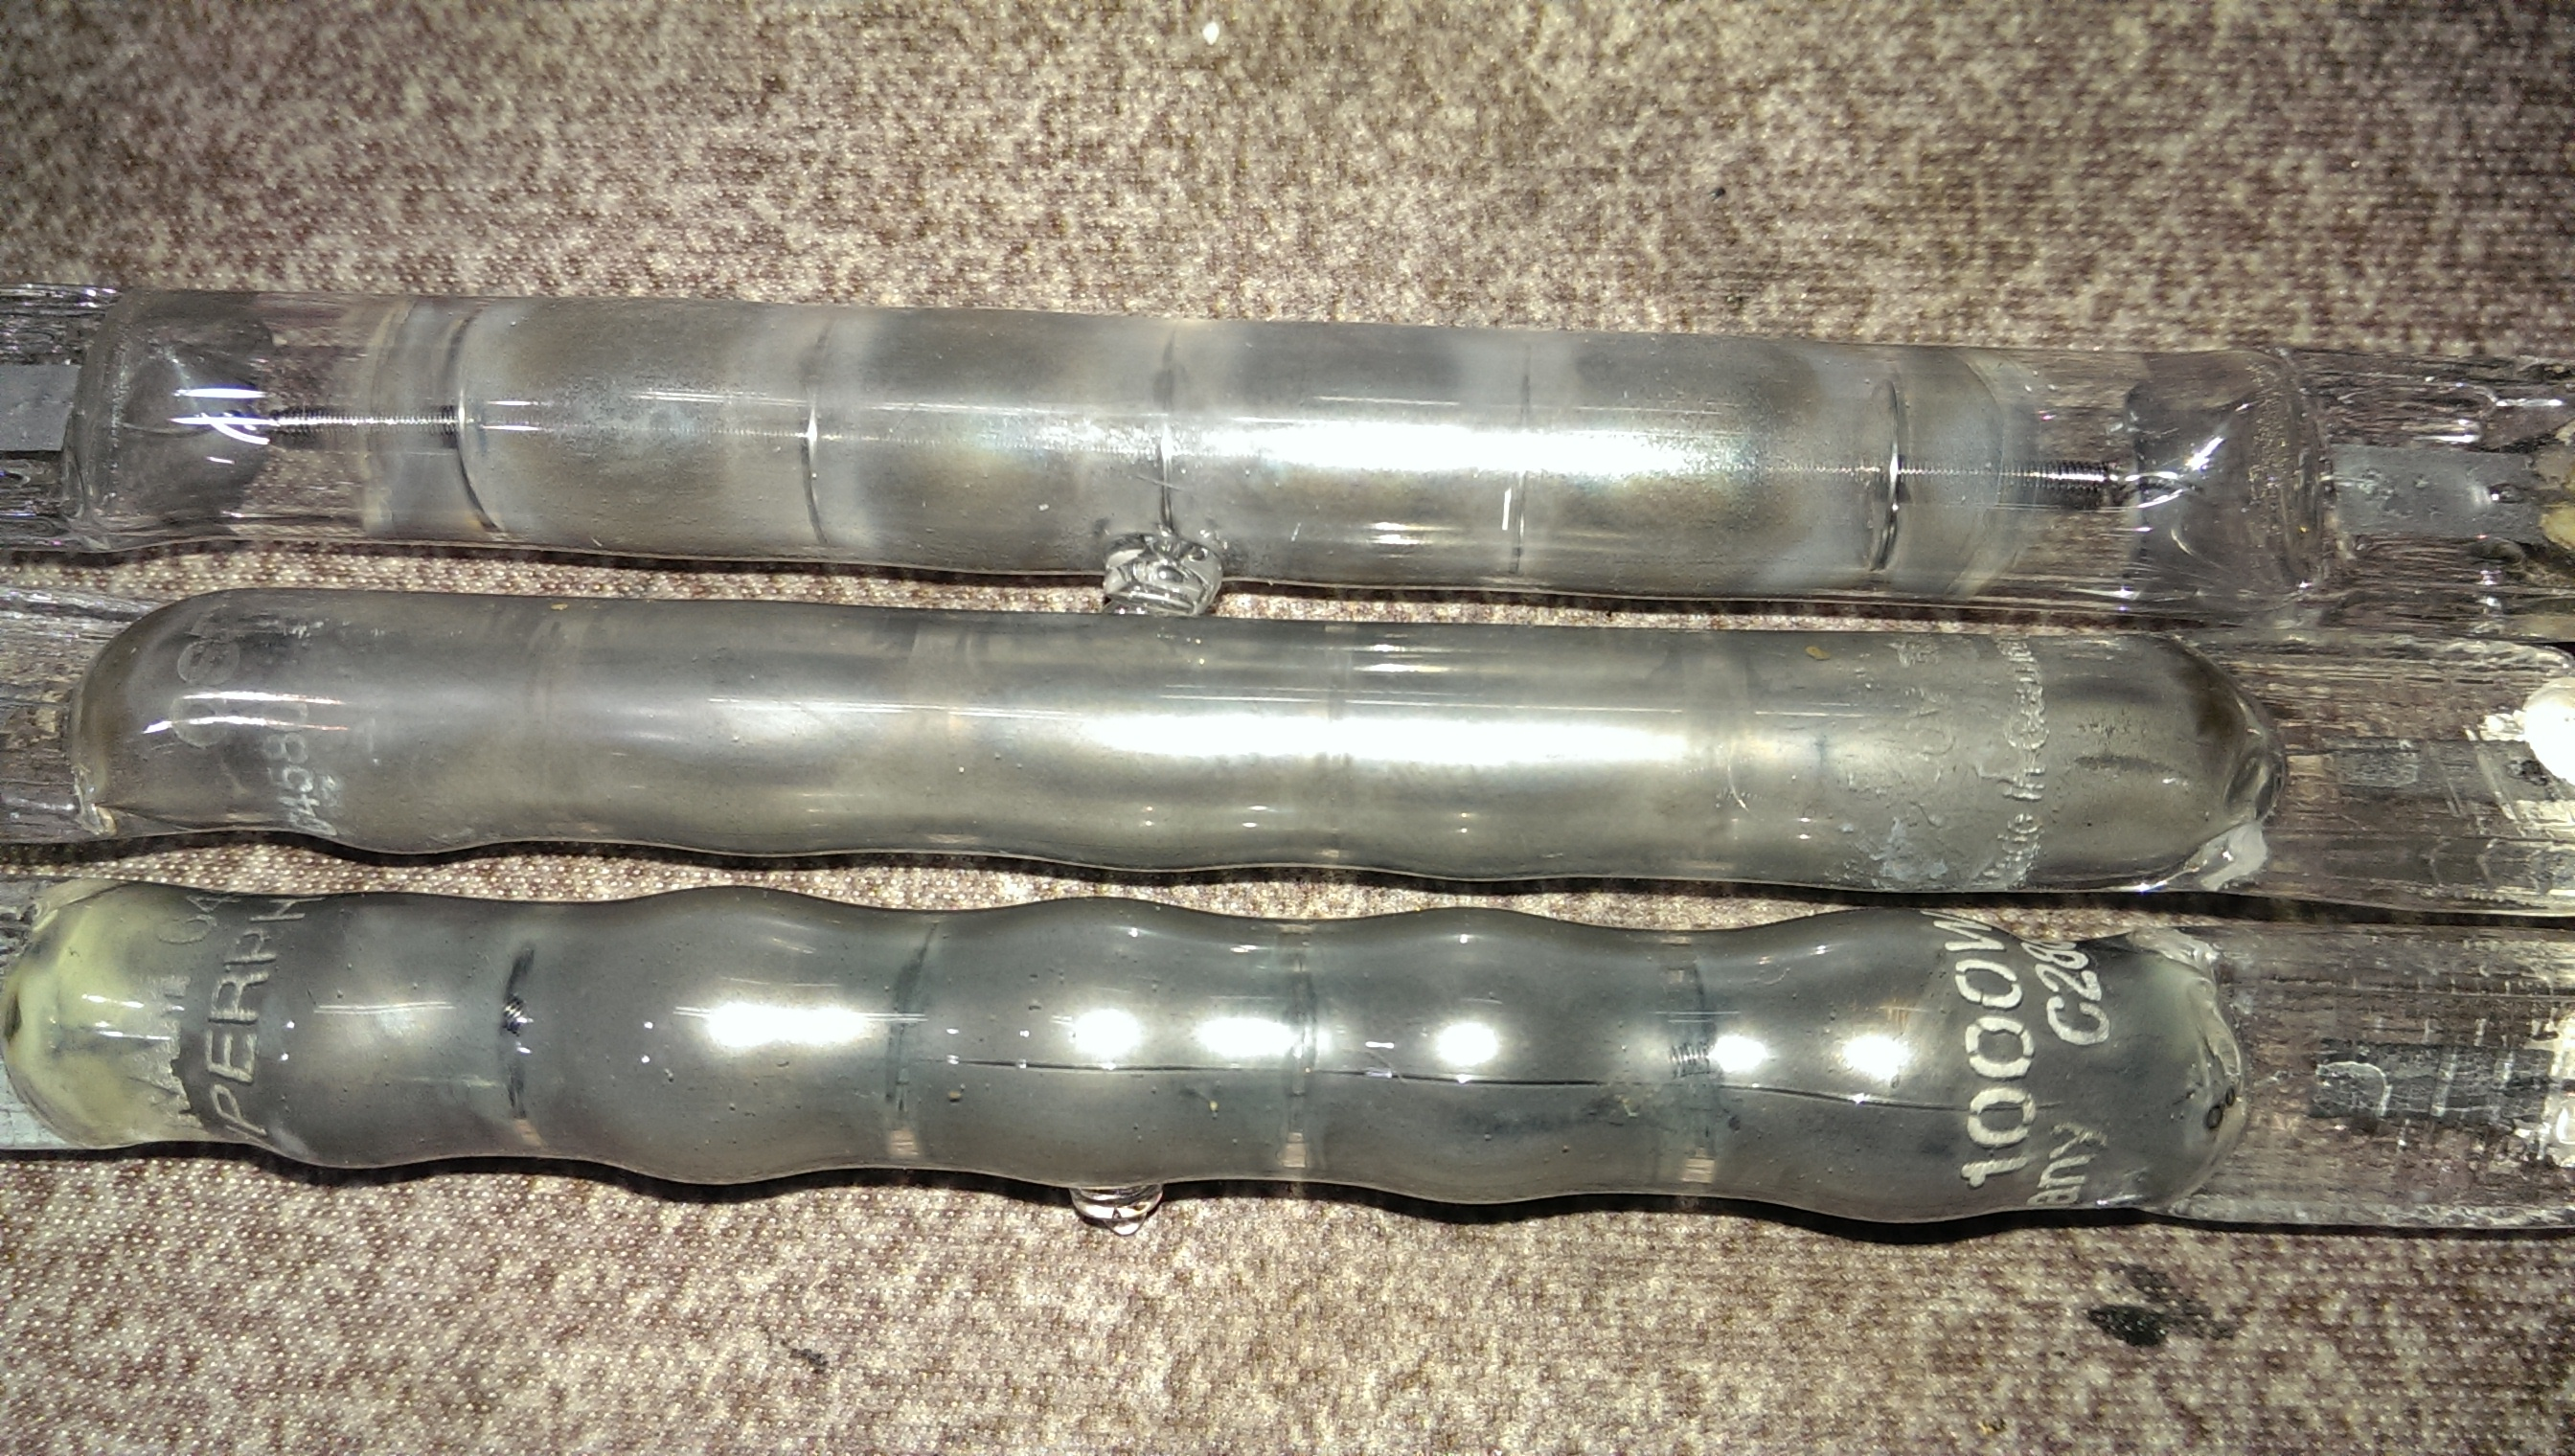Light_bulb: (2, 234, 2575, 640), (2, 582, 2575, 932), (9, 893, 2575, 1242)
